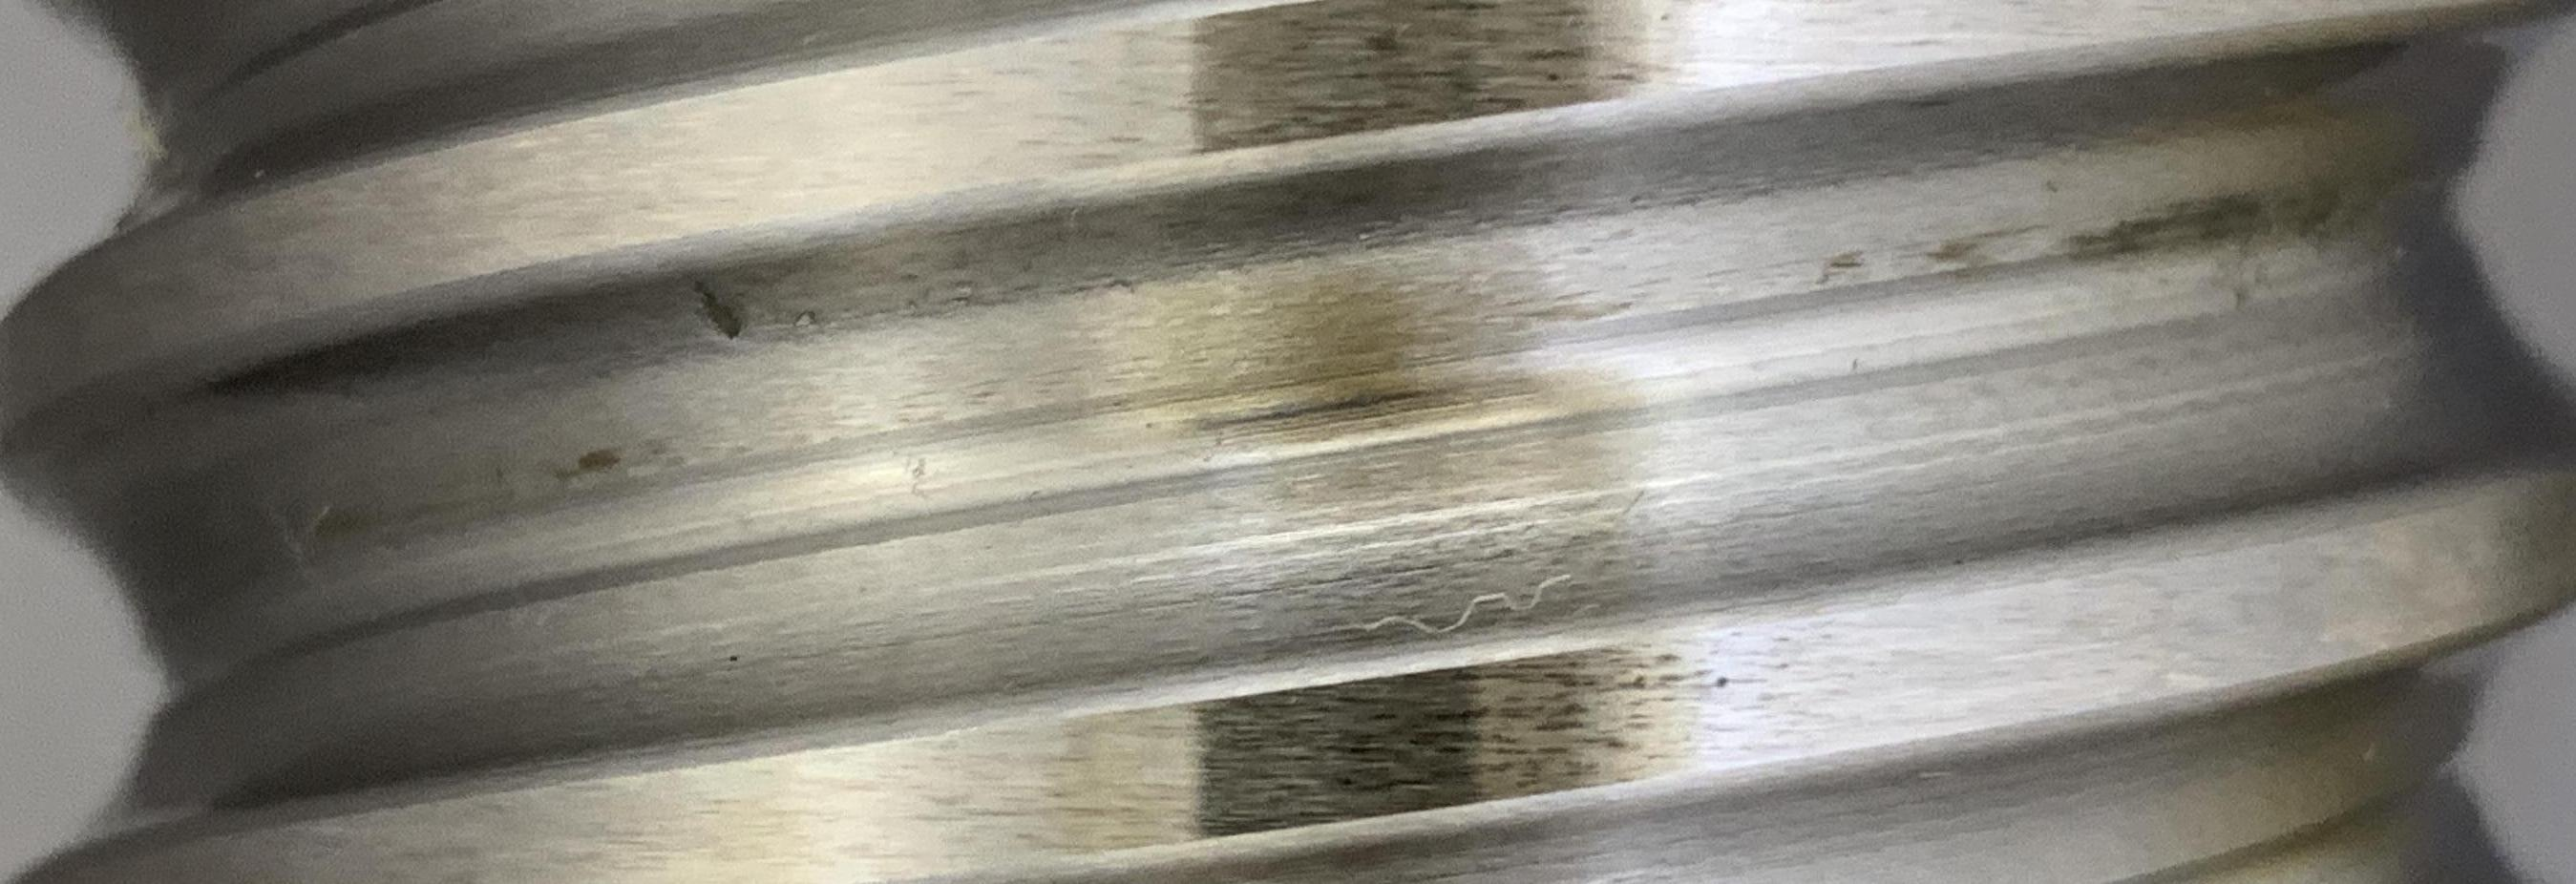pitting: (697, 288, 741, 340)
